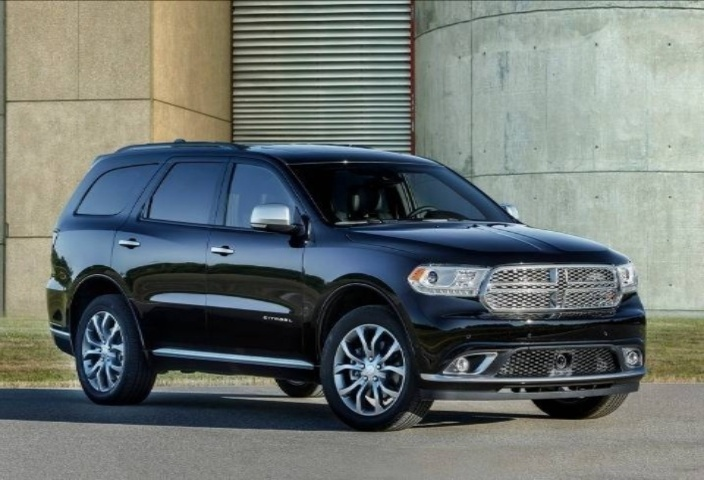camper: (20, 123, 652, 426)
